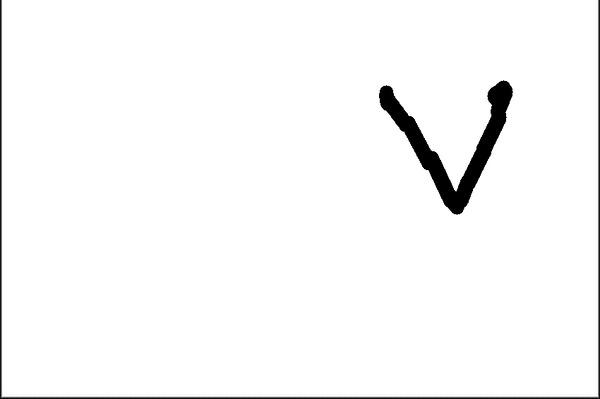V: (372, 65, 520, 220)
